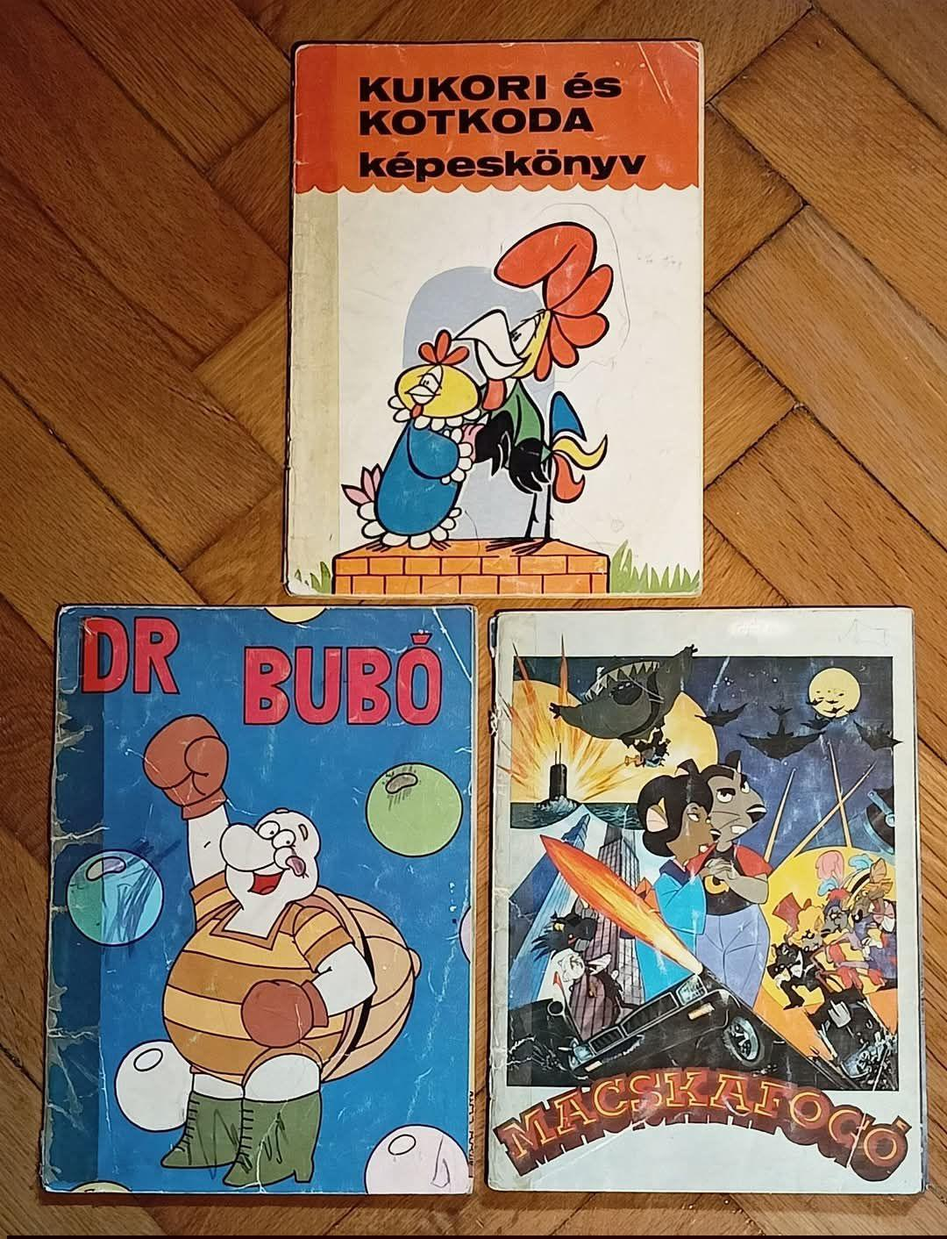comic: (42, 601, 478, 1197), (488, 608, 924, 1192), (286, 41, 701, 597)
